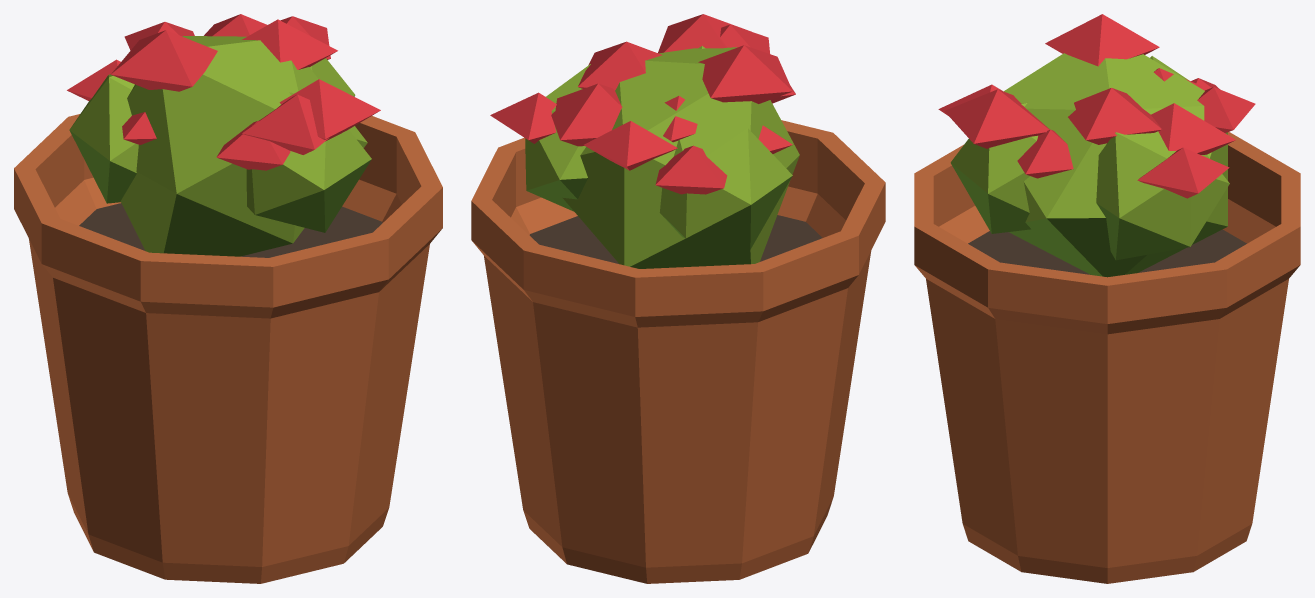
The model's file is SM_Street_Pot_Round_S_FlowerRed_01.gltf.
3 views of the same model, side by side, from view 1: azimuth 30°, elevation 25°; view 2: azimuth 150°, elevation 25°; view 3: azimuth 270°, elevation 25° (orthographic). The views are drawn at different scales.
Parts seen in each view (by area): view 1: SM_Street_Pot_Round_S_FlowerRed_01; view 2: SM_Street_Pot_Round_S_FlowerRed_01; view 3: SM_Street_Pot_Round_S_FlowerRed_01.
Boxes of the visible parts, <box> form: SM_Street_Pot_Round_S_FlowerRed_01: <box>14,14,442,583</box>; SM_Street_Pot_Round_S_FlowerRed_01: <box>471,14,885,583</box>; SM_Street_Pot_Round_S_FlowerRed_01: <box>914,14,1300,583</box>.
Size of the model in its own units: 0.24 by 0.3117 by 0.2283.
1 material, 1 textured.
